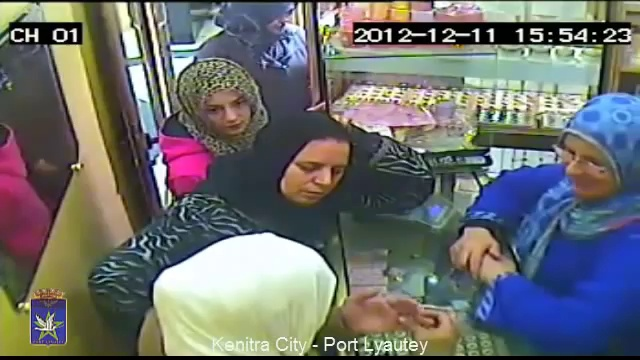face: (287, 142, 347, 204), (565, 133, 614, 200), (200, 85, 253, 136)
